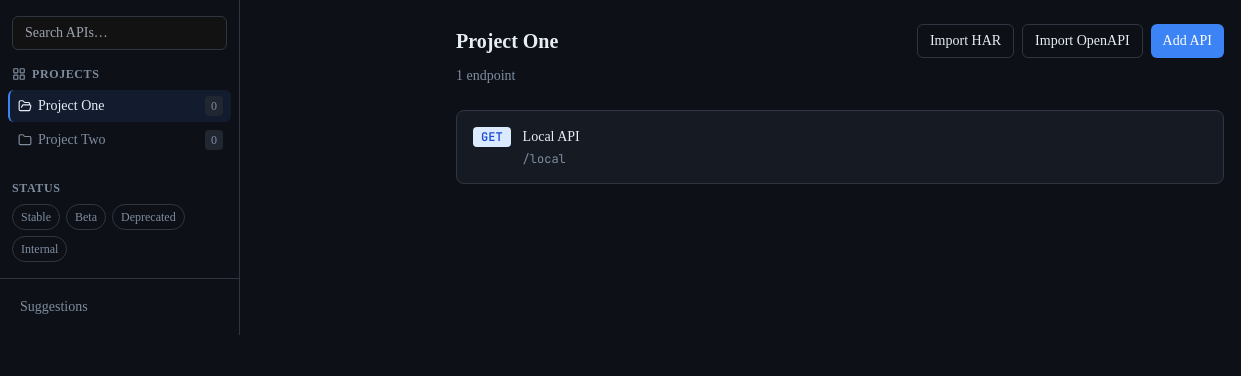
Test: ProjectPage — cross-project search › shows project name badge on cross-project search results
The width and height of the screenshot is (1241, 376).
Check: the text "Local API" is shown, box x1=523 y1=127 x2=580 y2=147
Step 1. Type "remote" into the field with placeholder "Search APIs…" → (120, 33), box x1=12 y1=16 x2=227 y2=50
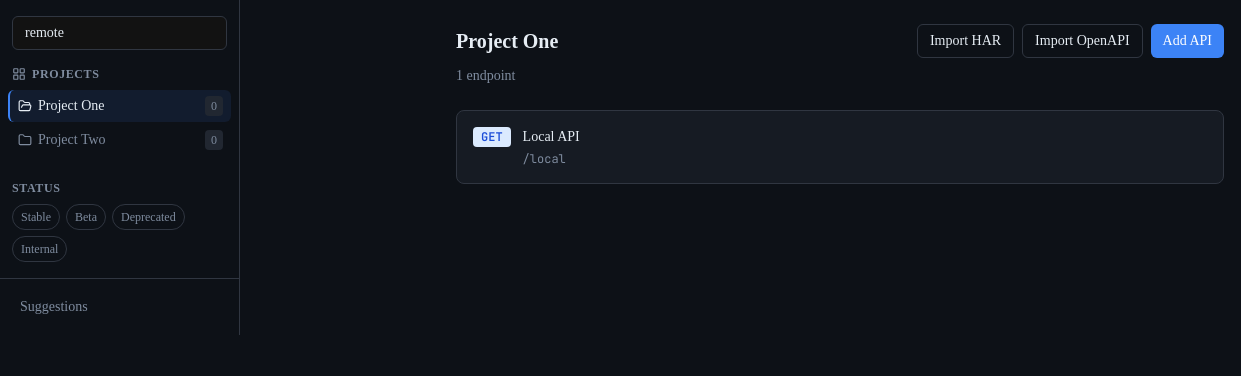
Step 2. Press Enter in the field with placeholder "Search APIs…", box x1=12 y1=16 x2=227 y2=50
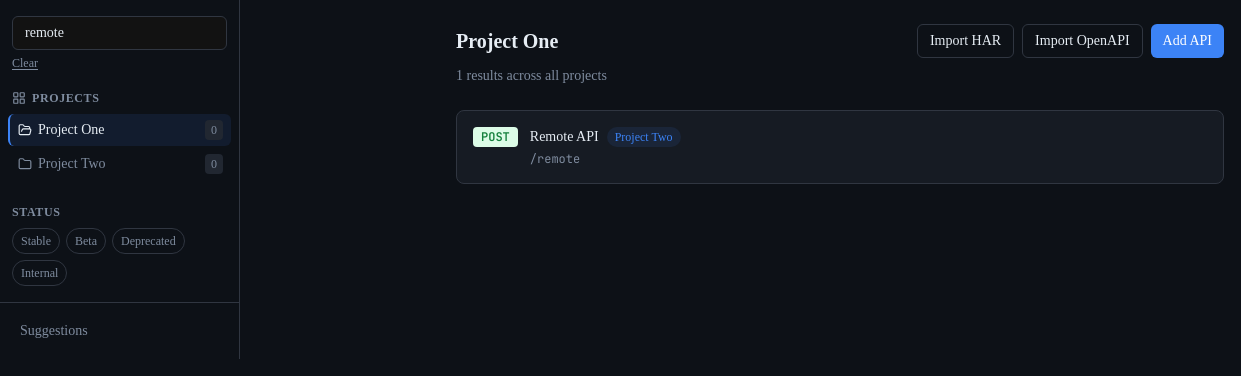
Check: the text with test id "project-name-badge" is shown, box x1=607 y1=127 x2=681 y2=147
Check: the text with test id "project-name-badge" reads "Project Two", box x1=615 y1=130 x2=673 y2=144
